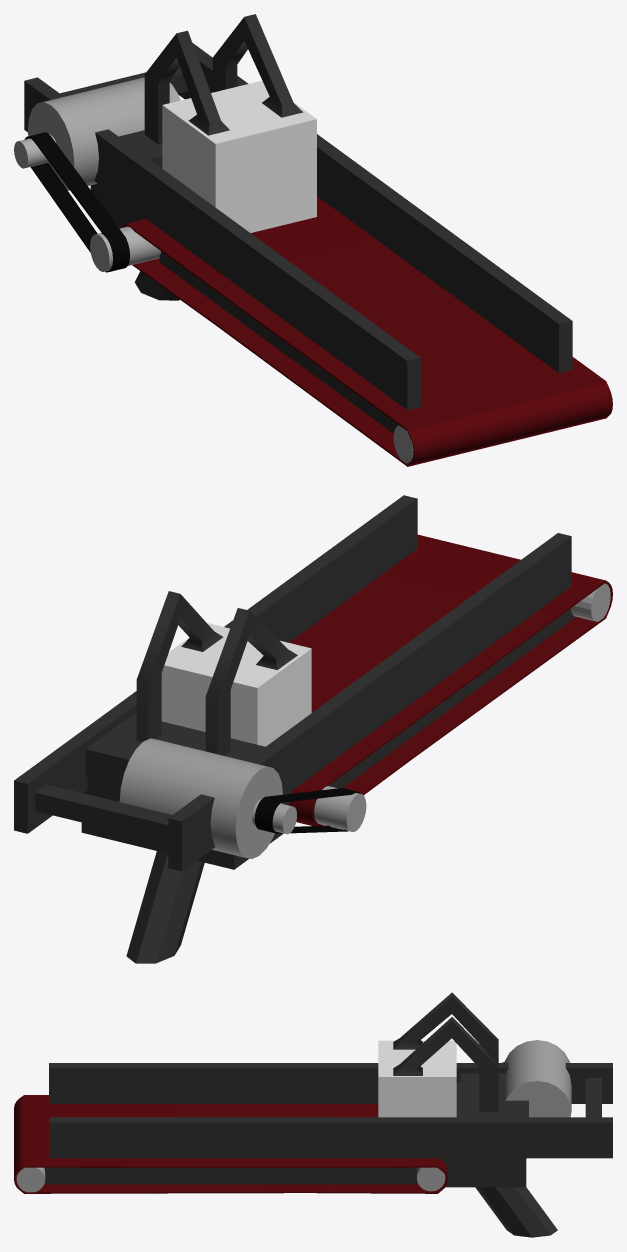
The model's file is salt_thrower.fbx.
3 renders of one model, top to bottom at view 1: azimuth 30°, elevation 25°; view 2: azimuth 150°, elevation 25°; view 3: azimuth 270°, elevation 25°, orthographic. The views are drawn at different scales.
Visible parts, largest first — view 1: pCylinder4, pCube2, pCube3, pCube5, pCylinder5, pCylinder7, pCube1, pCylinder2, pCube6, pCube4, pCylinder6, pCube7 (+1 smaller); view 2: pCube2, pCylinder4, pCylinder5, pCube3, pCube5, pCylinder1, pCube7, pCube4, pCube1, pCube6, pCylinder2, pCylinder7 (+2 smaller); view 3: pCube2, pCylinder4, pCube1, pCube5, pCube3, pCylinder5, pCube6, pCylinder1, pCube4, pCube7, pCylinder3, pCylinder2.
Boxes of the visible parts, box(x1,y1,x2,y2) form: pCylinder4: box(122, 196, 612, 466); pCube2: box(24, 43, 572, 410); pCube3: box(162, 80, 316, 232); pCube5: box(144, 14, 303, 144); pCylinder5: box(27, 77, 180, 190); pCylinder7: box(24, 132, 129, 272); pCube1: box(159, 251, 399, 433); pCylinder2: box(90, 226, 160, 271); pCube6: box(90, 183, 145, 228); pCube4: box(119, 130, 162, 167); pCylinder6: box(14, 134, 56, 168); pCube7: box(60, 66, 188, 96); pCube2: box(14, 495, 571, 871); pCylinder4: box(288, 534, 612, 825); pCylinder5: box(119, 738, 282, 858); pCube3: box(161, 623, 311, 746); pCube5: box(136, 591, 297, 755); pCylinder1: box(126, 851, 204, 963); pCube7: box(35, 784, 171, 843); pCube4: box(85, 714, 265, 784); pCube1: box(328, 608, 574, 788); pCube6: box(81, 776, 291, 869); pCylinder2: box(314, 786, 366, 832); pCylinder7: box(254, 788, 359, 833); pCube2: box(49, 1063, 612, 1158); pCylinder4: box(14, 1095, 447, 1193); pCube1: box(44, 1167, 417, 1184); pCube5: box(393, 992, 498, 1112); pCube3: box(378, 1040, 456, 1117); pCylinder5: box(504, 1040, 571, 1117); pCube6: box(439, 1083, 526, 1187); pCylinder1: box(475, 1187, 557, 1237); pCube4: box(460, 1073, 528, 1117); pCube7: box(585, 1078, 601, 1117); pCylinder3: box(16, 1167, 45, 1192); pCylinder2: box(417, 1167, 445, 1191).
Size of the model in its own units: 7.83 by 9.62 by 23.35.
